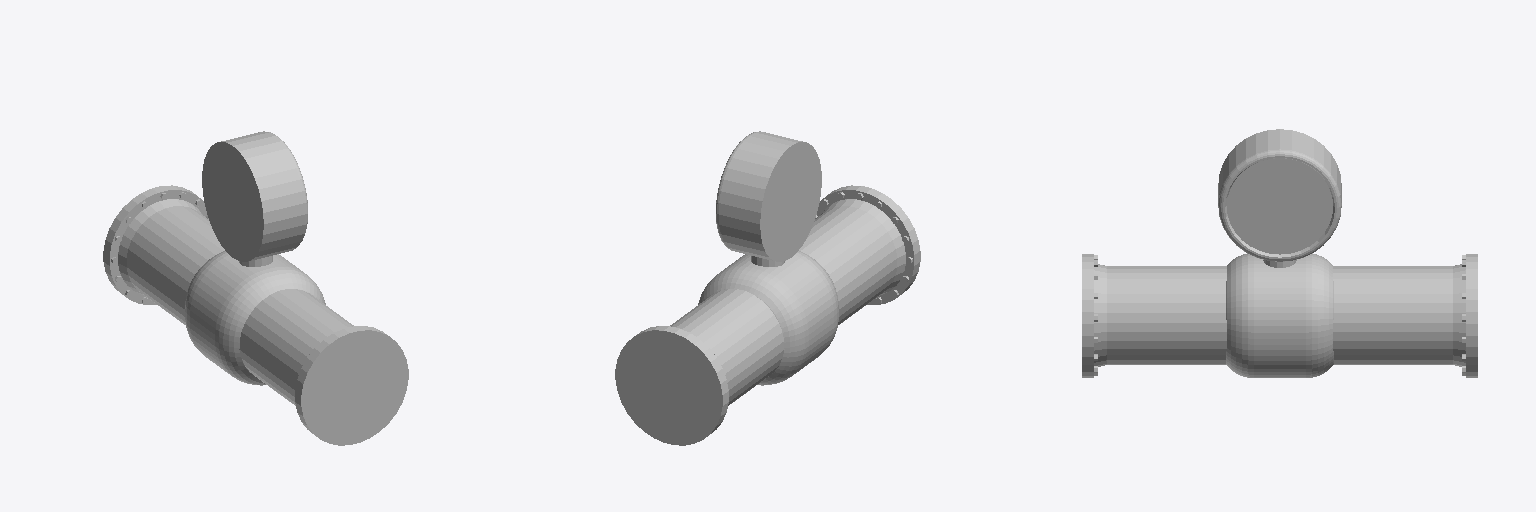
The model's file is pipeworks_pressure_gauge.obj.
3 views of the same model, side by side, from view 1: azimuth 30°, elevation 25°; view 2: azimuth 150°, elevation 25°; view 3: azimuth 270°, elevation 25° (orthographic).
Visible parts, largest first — view 1: Pipe_Cylinder.002; view 2: Pipe_Cylinder.002; view 3: Pipe_Cylinder.002.
Boxes of the visible parts, x1,y1,x2,y2 form: Pipe_Cylinder.002: [103, 131, 408, 445]; Pipe_Cylinder.002: [615, 131, 920, 445]; Pipe_Cylinder.002: [1082, 129, 1477, 377].
Size of the model in its own units: 0.3125 by 0.6446 by 1.